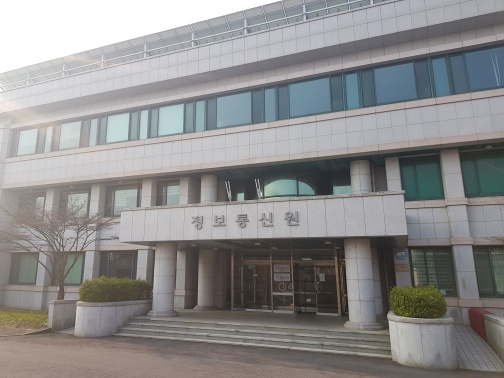Information Telecommunication Center: (8, 11, 497, 347), (119, 31, 392, 348), (186, 202, 316, 239)
